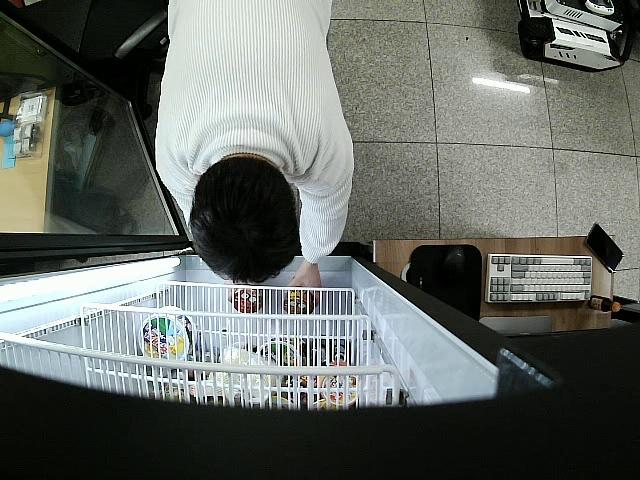00_hand: (288, 266, 321, 298)
06_nuguri_S: (283, 290, 316, 315), (231, 288, 261, 314)
